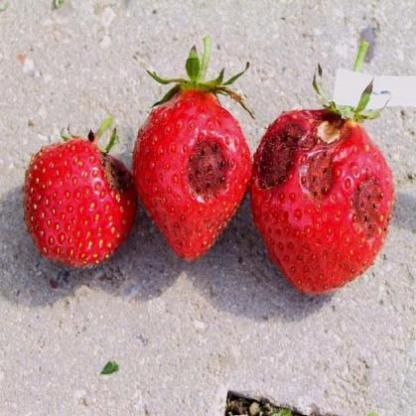Strawberry_Anthracnose_Fruit_Rot: (254, 113, 392, 241), (183, 139, 234, 196), (94, 150, 130, 196)
